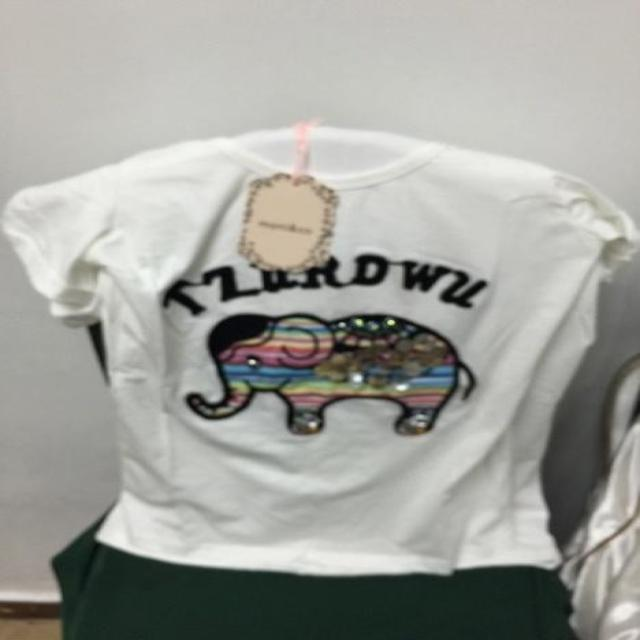short sleeve top: (4, 136, 636, 573)
